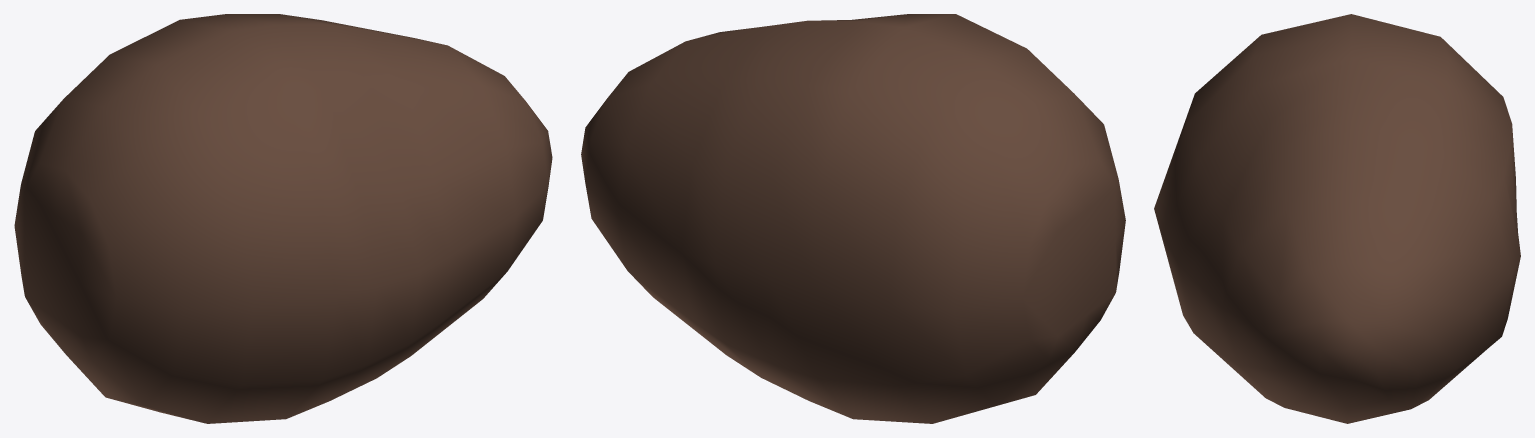
Rendered from potato.fbx.
The picture shows the model from 3 angles, left to right: view 1: azimuth 30°, elevation 25°; view 2: azimuth 150°, elevation 25°; view 3: azimuth 270°, elevation 25°; orthographic projection. The views are drawn at different scales.
Parts seen in each view (by area): view 1: pCylinder1; view 2: pCylinder1; view 3: pCylinder1.
Boxes of the visible parts, box(x1,y1,x2,y2) form: pCylinder1: box(14, 14, 552, 423); pCylinder1: box(581, 14, 1125, 423); pCylinder1: box(1154, 14, 1520, 423).
Size of the model in its own units: 0.7683 by 0.5488 by 0.5347.
1 material, 1 textured.
